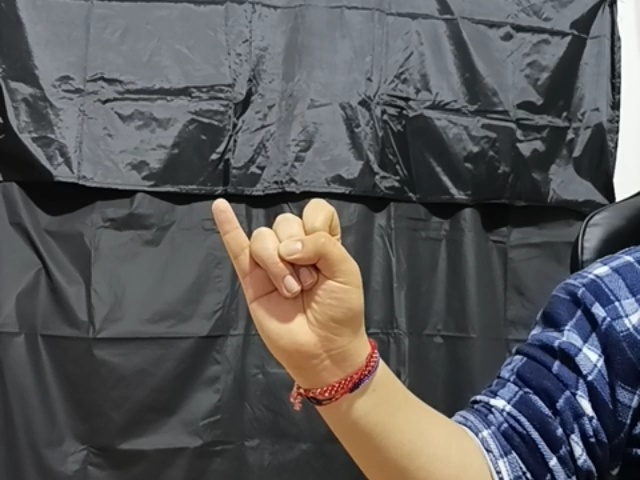I: (211, 196, 387, 360)
